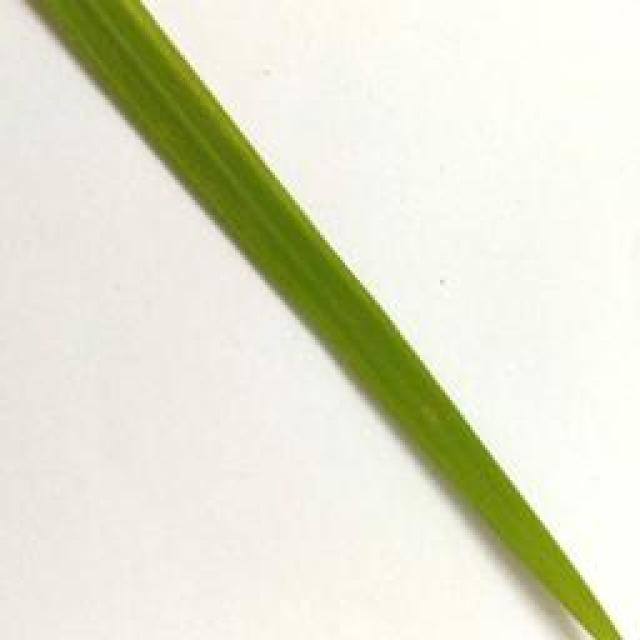Healthy-Plant: (24, 0, 625, 640)
